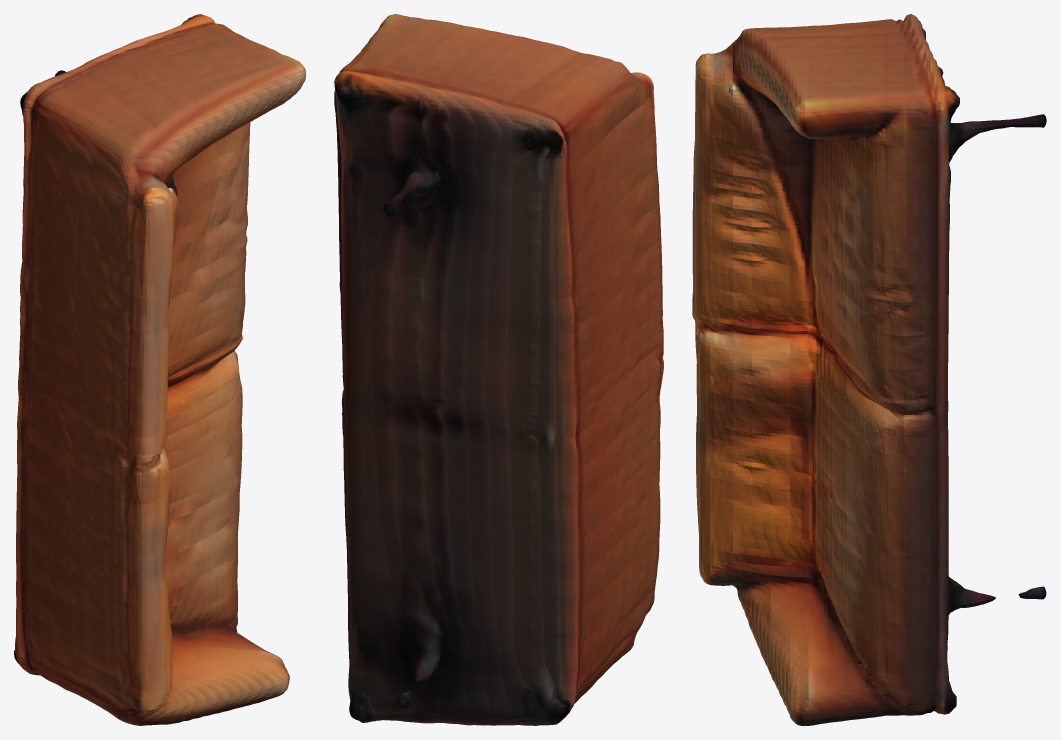
The model's file is img.glb.
3 renders of one model, left to right at view 1: azimuth 30°, elevation 25°; view 2: azimuth 150°, elevation 25°; view 3: azimuth 270°, elevation 25°, orthographic. The views are drawn at different scales.
Visible parts, largest first — view 1: mesh.obj; view 2: mesh.obj; view 3: mesh.obj.
Part boxes in pixels (x1,y1,x2,y2): mesh.obj: [14, 14, 305, 725]; mesh.obj: [334, 14, 663, 725]; mesh.obj: [692, 14, 1046, 725].
Bounding box in the file's own units: 1.2 × 3.02 × 1.53.
Materials: 1 (1 with a texture image).
